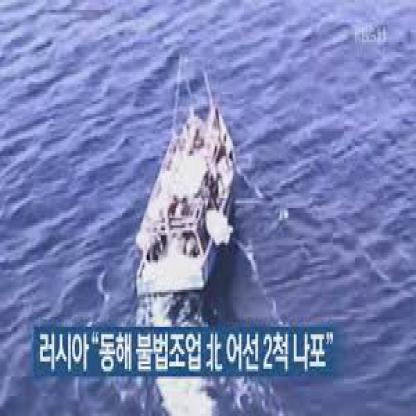fish-b: (125, 52, 248, 319)
